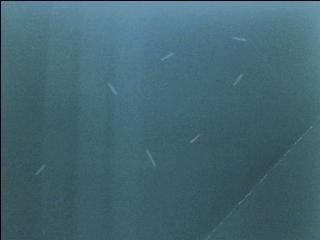crack: (205, 120, 319, 240)
scratch: (103, 78, 122, 101), (145, 148, 157, 166), (34, 163, 47, 175), (233, 73, 244, 86), (161, 51, 175, 61), (189, 133, 201, 143), (232, 36, 247, 42)
